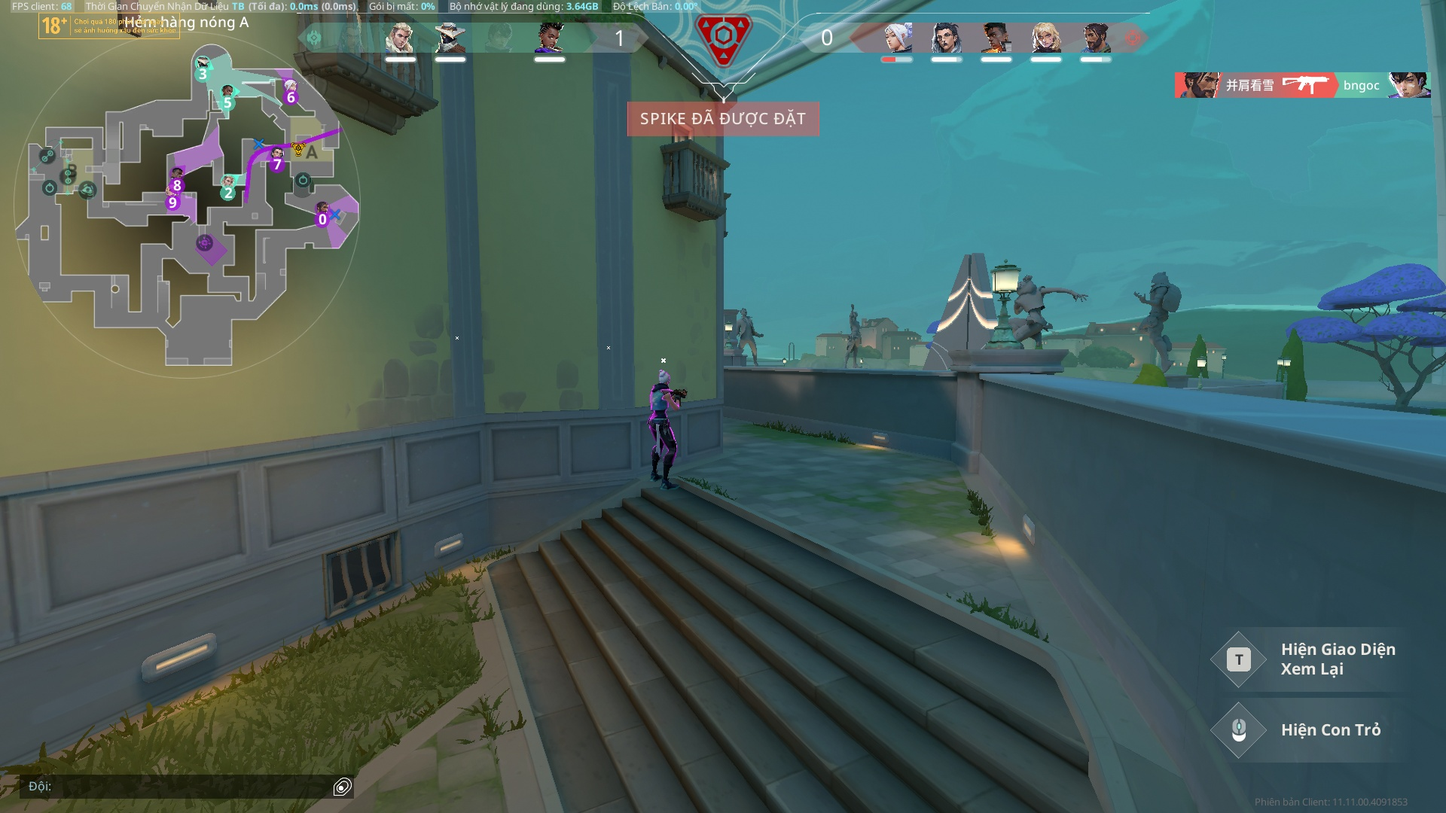body: (648, 384, 671, 416)
head: (655, 373, 673, 388)
